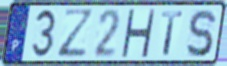2: (94, 8, 122, 60)
3: (29, 7, 58, 61)
H: (119, 8, 157, 59)
S: (184, 8, 217, 59)
T: (160, 10, 184, 57)
Z: (56, 7, 96, 60)
